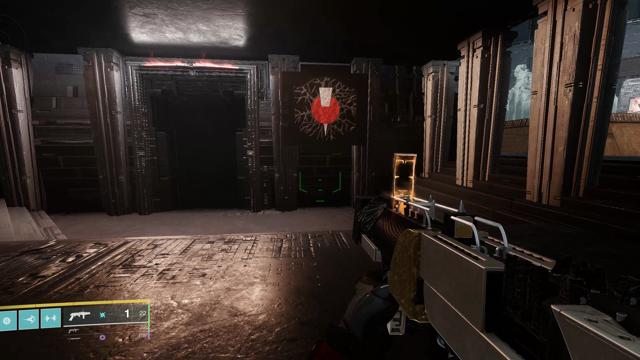kill: (292, 76, 359, 143)
